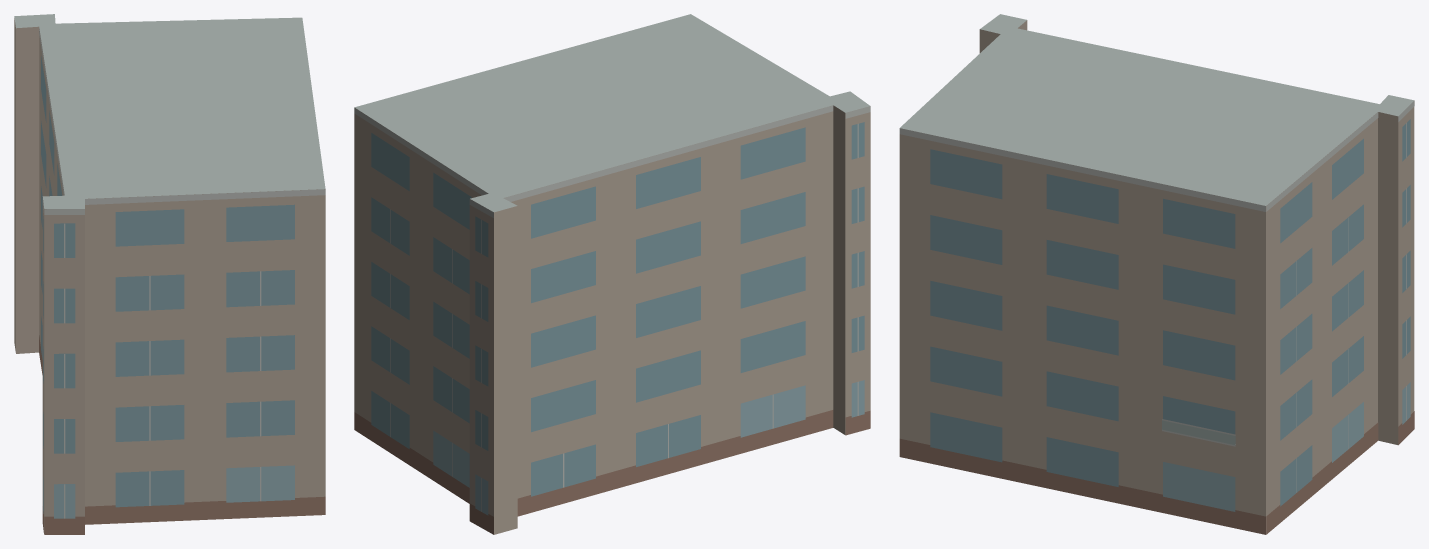
File: survey-upis-32884802.glb
3 renders of one model, left to right at view 1: azimuth 30°, elevation 25°; view 2: azimuth 150°, elevation 25°; view 3: azimuth 270°, elevation 25°, orthographic.
Visible parts, largest first — view 1: survey-upis-32884802.tmp; view 2: survey-upis-32884802.tmp; view 3: survey-upis-32884802.tmp.
Part boxes in pixels (left/top/right/bottom): survey-upis-32884802.tmp: left=14, top=14, right=325, bottom=534; survey-upis-32884802.tmp: left=354, top=14, right=870, bottom=534; survey-upis-32884802.tmp: left=899, top=14, right=1414, bottom=534.
Bounding box in the file's own units: 16.41 × 13.1 × 18.6.
